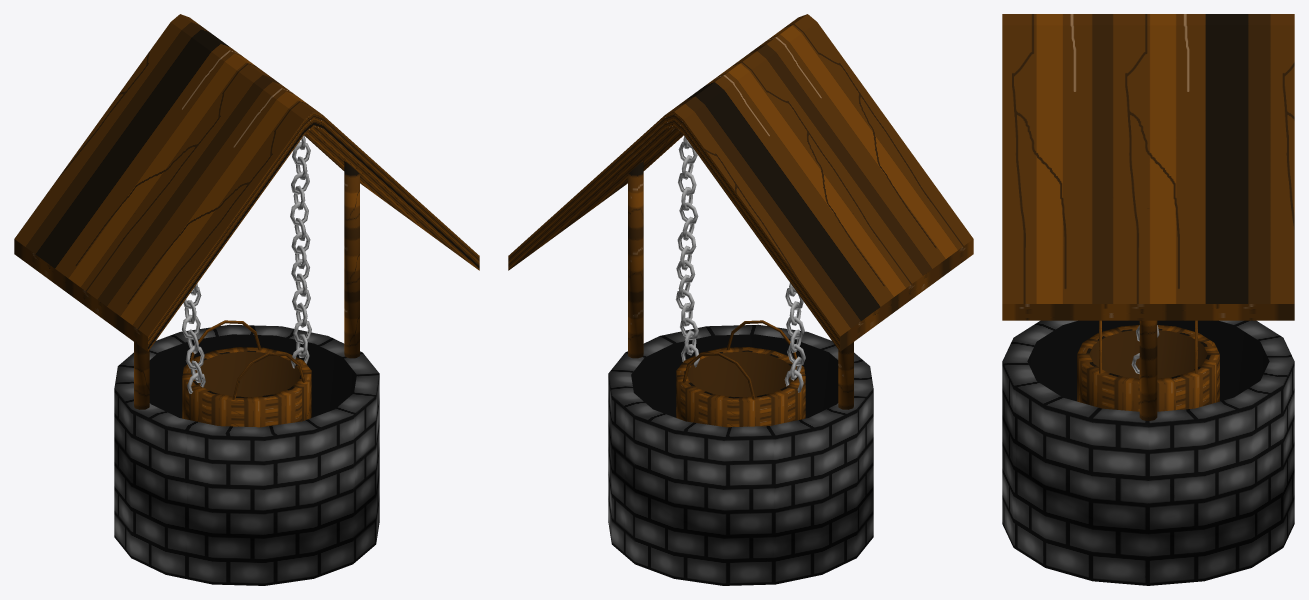
Rendered from model_Poço_01.fbx.
The picture shows the model from 3 angles, left to right: view 1: azimuth 30°, elevation 25°; view 2: azimuth 150°, elevation 25°; view 3: azimuth 270°, elevation 25°; orthographic projection. The views are drawn at different scales.
Parts seen in each view (by area): view 1: Cube, Cylinder, Cylinder.002, Cylinder.001, Torus.016, BézierCircle; view 2: Cube, Cylinder, Cylinder.002, Cylinder.001, Torus.016, BézierCircle; view 3: Cube, Cylinder, Cylinder.002, Cylinder.001.
Part boxes in pixels (x1,y1,x2,y2): Cube: (14,14,479,351); Cylinder: (114,324,379,585); Cylinder.002: (182,347,311,427); Cylinder.001: (134,161,359,409); Torus.016: (182,135,311,393); BézierCircle: (190,320,305,399); Cube: (508,14,973,351); Cylinder: (608,324,873,585); Cylinder.002: (676,347,805,427); Cylinder.001: (628,161,853,409); Torus.016: (675,136,805,392); BézierCircle: (682,320,797,399); Cube: (1002,14,1294,320); Cylinder: (1002,320,1294,585); Cylinder.002: (1077,325,1219,411); Cylinder.001: (1139,208,1157,420).
Size of the model in its own units: 287 by 385 by 200.
